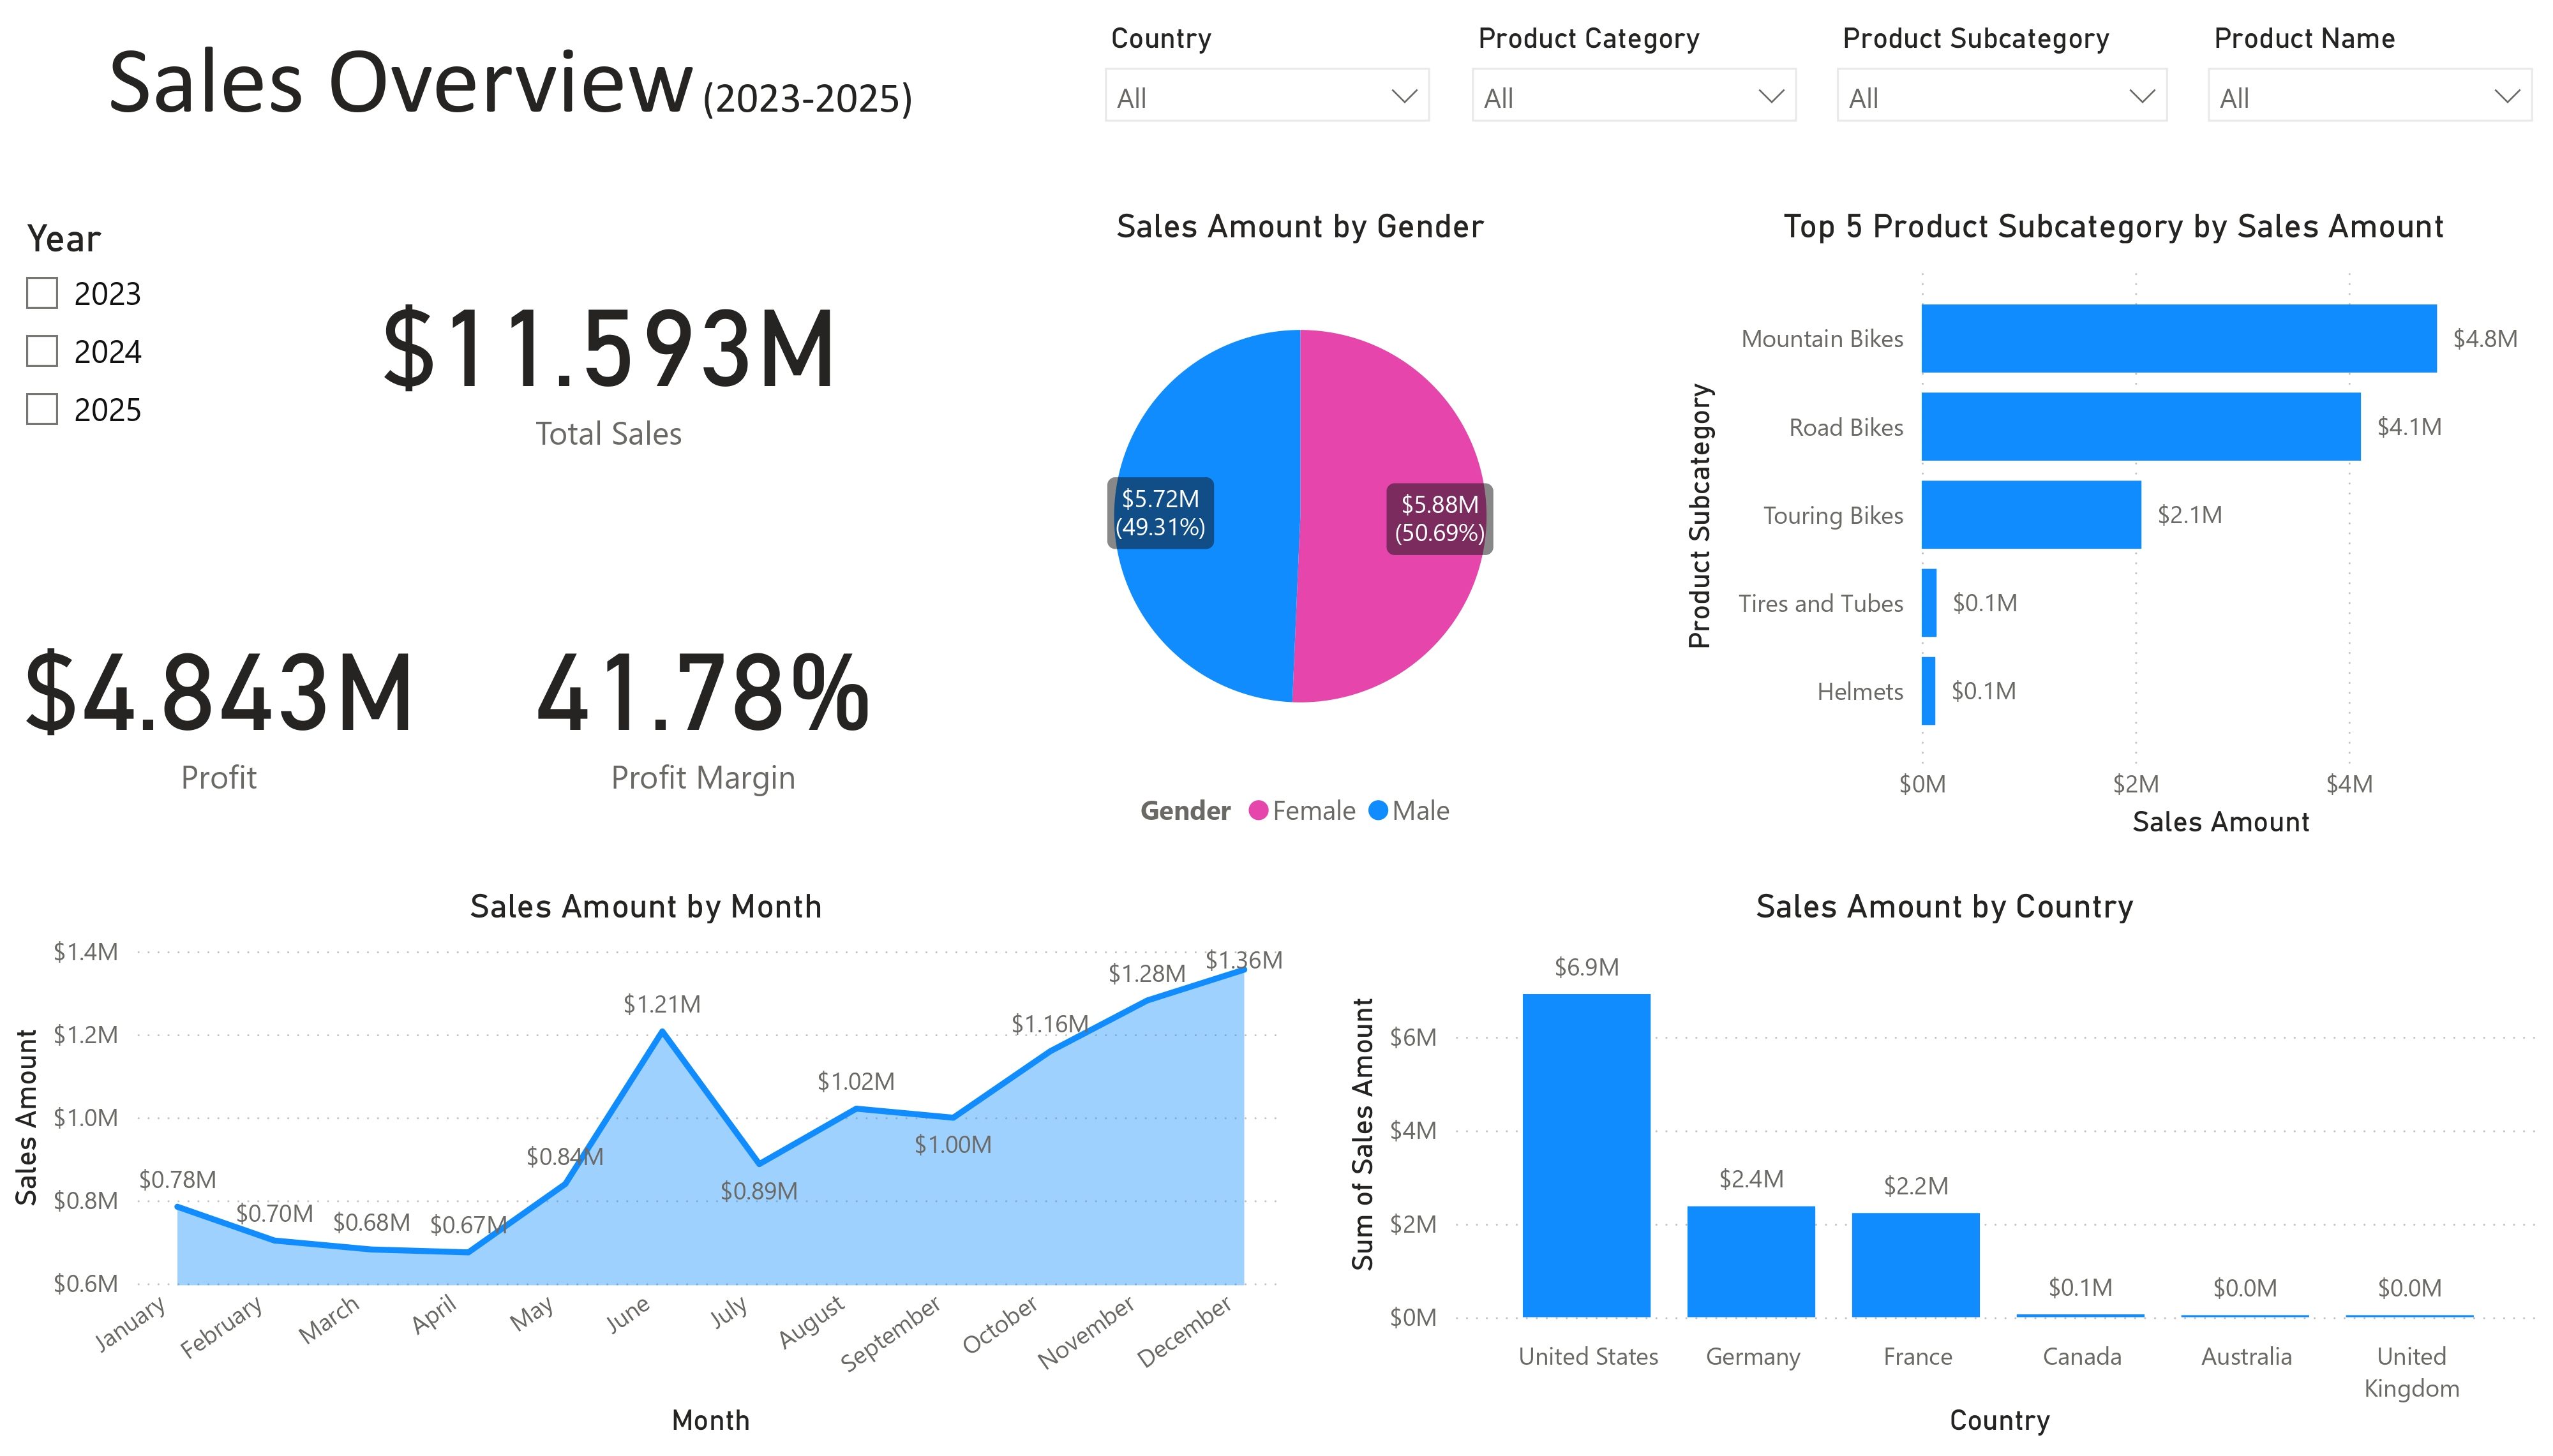

Layout of this report page (visuals, bound fields, positions):
{"tool":"powerbi","page":{"name":"Sales Overview","canvas":[1280,720],"ordinal":0},"visuals":[{"type":"textbox","box":[0,0,512.2,82],"z":0},{"type":"textbox","box":[532.7,0,747.8,82],"z":1000},{"type":"slicer","fields":{"Values":["DIM_Date.Year"]},"box":[0,98,127.3,150.7],"z":2000},{"type":"card","fields":{"Values":["Sum(FACT_InternetSales.Sales Amount)"]},"box":[144.9,98,320.5,150.7],"z":3000},{"type":"card","fields":{"Values":["FACT_InternetSales.Profit"]},"box":[0,270.7,219.5,149.3],"z":4000},{"type":"card","fields":{"Values":["FACT_InternetSales.Profit Margin"]},"box":[240,270.7,225.4,149.3],"z":5000},{"type":"areaChart","title":"Sales Amount by Month","fields":{"Category":["DIM_Date.Month"],"Y":["Sum(FACT_InternetSales.Sales Amount)"]},"box":[0,439,648.3,281],"z":6000},{"type":"clusteredBarChart","title":"Top 5 Product Subcategory by Sales Amount","fields":{"Y":["Sum(FACT_InternetSales.Sales Amount)"],"Category":["DIM_Product.Product Subcategory Name"]},"box":[838.5,98,442,322],"z":7000},{"type":"columnChart","title":"Sales Amount by Country","fields":{"Category":["DIM_Customer&Geography.Country"],"Y":["Sum(FACT_InternetSales.Sales Amount)"]},"box":[670.2,439,610.2,281],"z":8000},{"type":"slicer","fields":{"Values":["DIM_Product.Product Category Name"]},"box":[728.3,1.5,182.9,80.5],"z":9000},{"type":"slicer","fields":{"Values":["DIM_Customer&Geography.Country"]},"box":[543.9,1.5,182.9,80.5],"z":10000},{"type":"slicer","fields":{"Values":["DIM_Product.Product Subcategory Name"]},"box":[911.2,1.5,185.9,80.5],"z":11000},{"type":"slicer","fields":{"Values":["DIM_Product.Product Name"]},"box":[1097.1,1.5,182.9,80.5],"z":12000},{"type":"pieChart","title":"Sales Amount by Gender","fields":{"Category":["DIM_Customer&Geography.Gender"],"Y":["Sum(FACT_InternetSales.Sales Amount)"]},"box":[480,98,343.9,322],"z":13000}]}

Visuals, with their boxes in screenshot pixels (x1, y1, x2, y2), scaled from the page's 1280x720 canvas onto the 2553x1456 screenshot:
textbox: Rect(0, 0, 1022, 166)
textbox: Rect(1063, 0, 2552, 166)
slicer - DIM_Date.Year: Rect(0, 198, 254, 503)
card - Sum(FACT_InternetSales.Sales Amount): Rect(289, 198, 928, 503)
card - FACT_InternetSales.Profit: Rect(0, 547, 438, 849)
card - FACT_InternetSales.Profit Margin: Rect(479, 547, 928, 849)
"Sales Amount by Month" areaChart: Rect(0, 888, 1293, 1455)
"Top 5 Product Subcategory by Sales Amount" clusteredBarChart: Rect(1672, 198, 2552, 849)
"Sales Amount by Country" columnChart: Rect(1336, 888, 2552, 1455)
slicer - DIM_Product.Product Category Name: Rect(1453, 3, 1818, 166)
slicer - DIM_Customer&Geography.Country: Rect(1085, 3, 1449, 166)
slicer - DIM_Product.Product Subcategory Name: Rect(1818, 3, 2188, 166)
slicer - DIM_Product.Product Name: Rect(2188, 3, 2552, 166)
"Sales Amount by Gender" pieChart: Rect(957, 198, 1643, 849)
